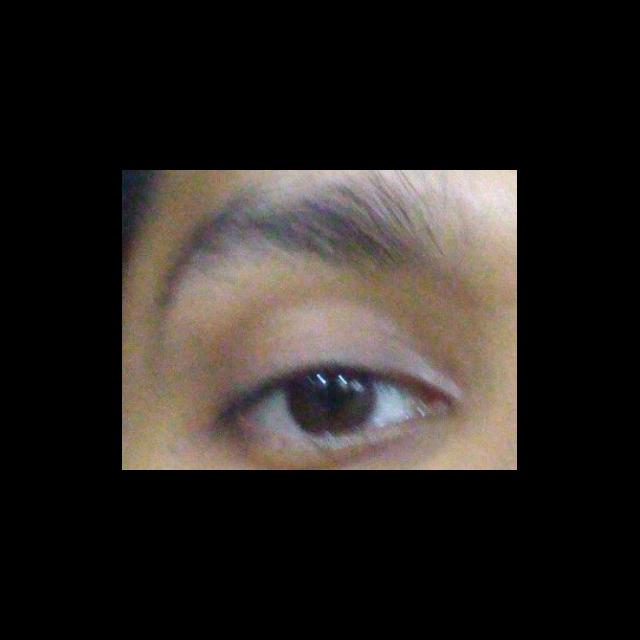eye: (241, 370, 429, 438)
iris: (287, 372, 375, 434)
